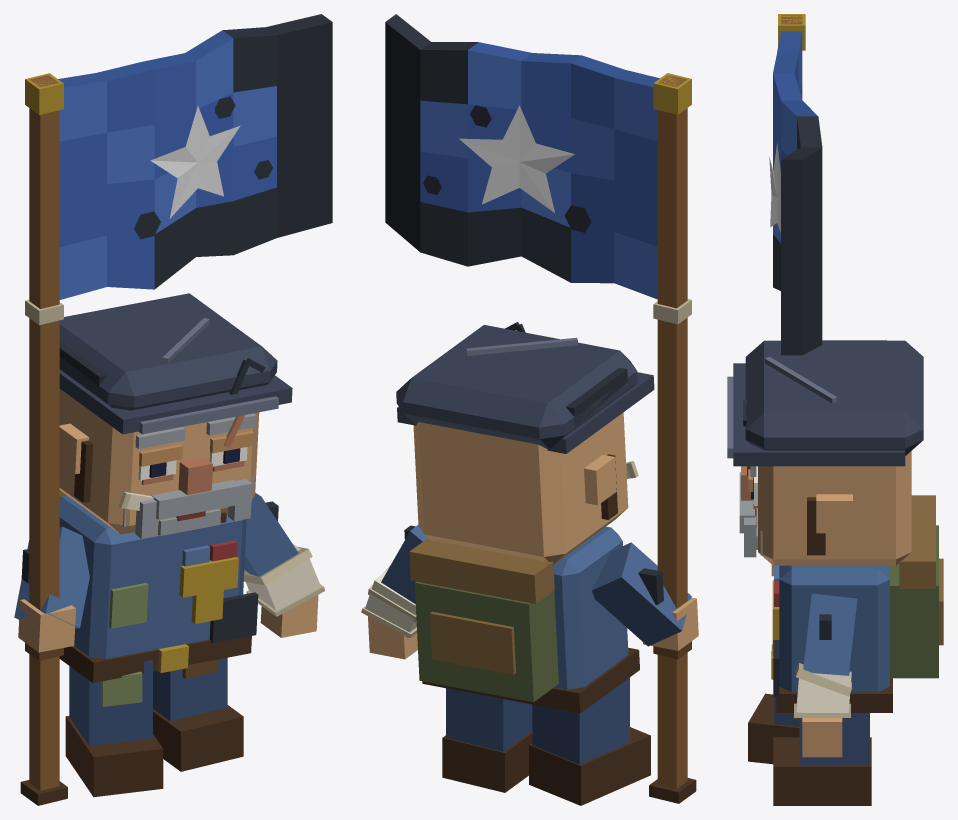
The model's file is tutorial_guide.glb.
3 renders of one model, left to right at view 1: azimuth 30°, elevation 25°; view 2: azimuth 150°, elevation 25°; view 3: azimuth 270°, elevation 25°, orthographic. The views are drawn at different scales.
Visible parts, largest first — view 1: TutorialGuide; view 2: TutorialGuide; view 3: TutorialGuide.
Boxes of the visible parts, box(x1,y1,x2,y2) form: TutorialGuide: box(14, 14, 332, 805); TutorialGuide: box(361, 14, 698, 805); TutorialGuide: box(727, 14, 943, 805).
Bounding box in the file's own units: 1.11 × 2.5 × 0.705.
1 material, 1 textured.
